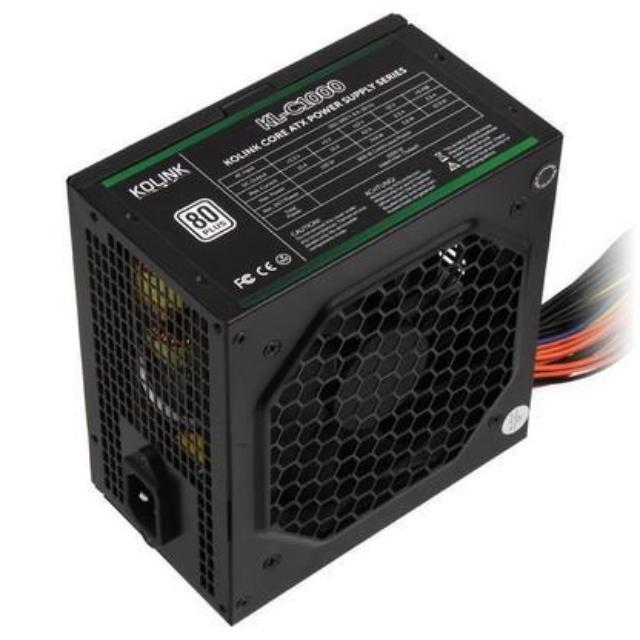PSU: (46, 5, 548, 640)
